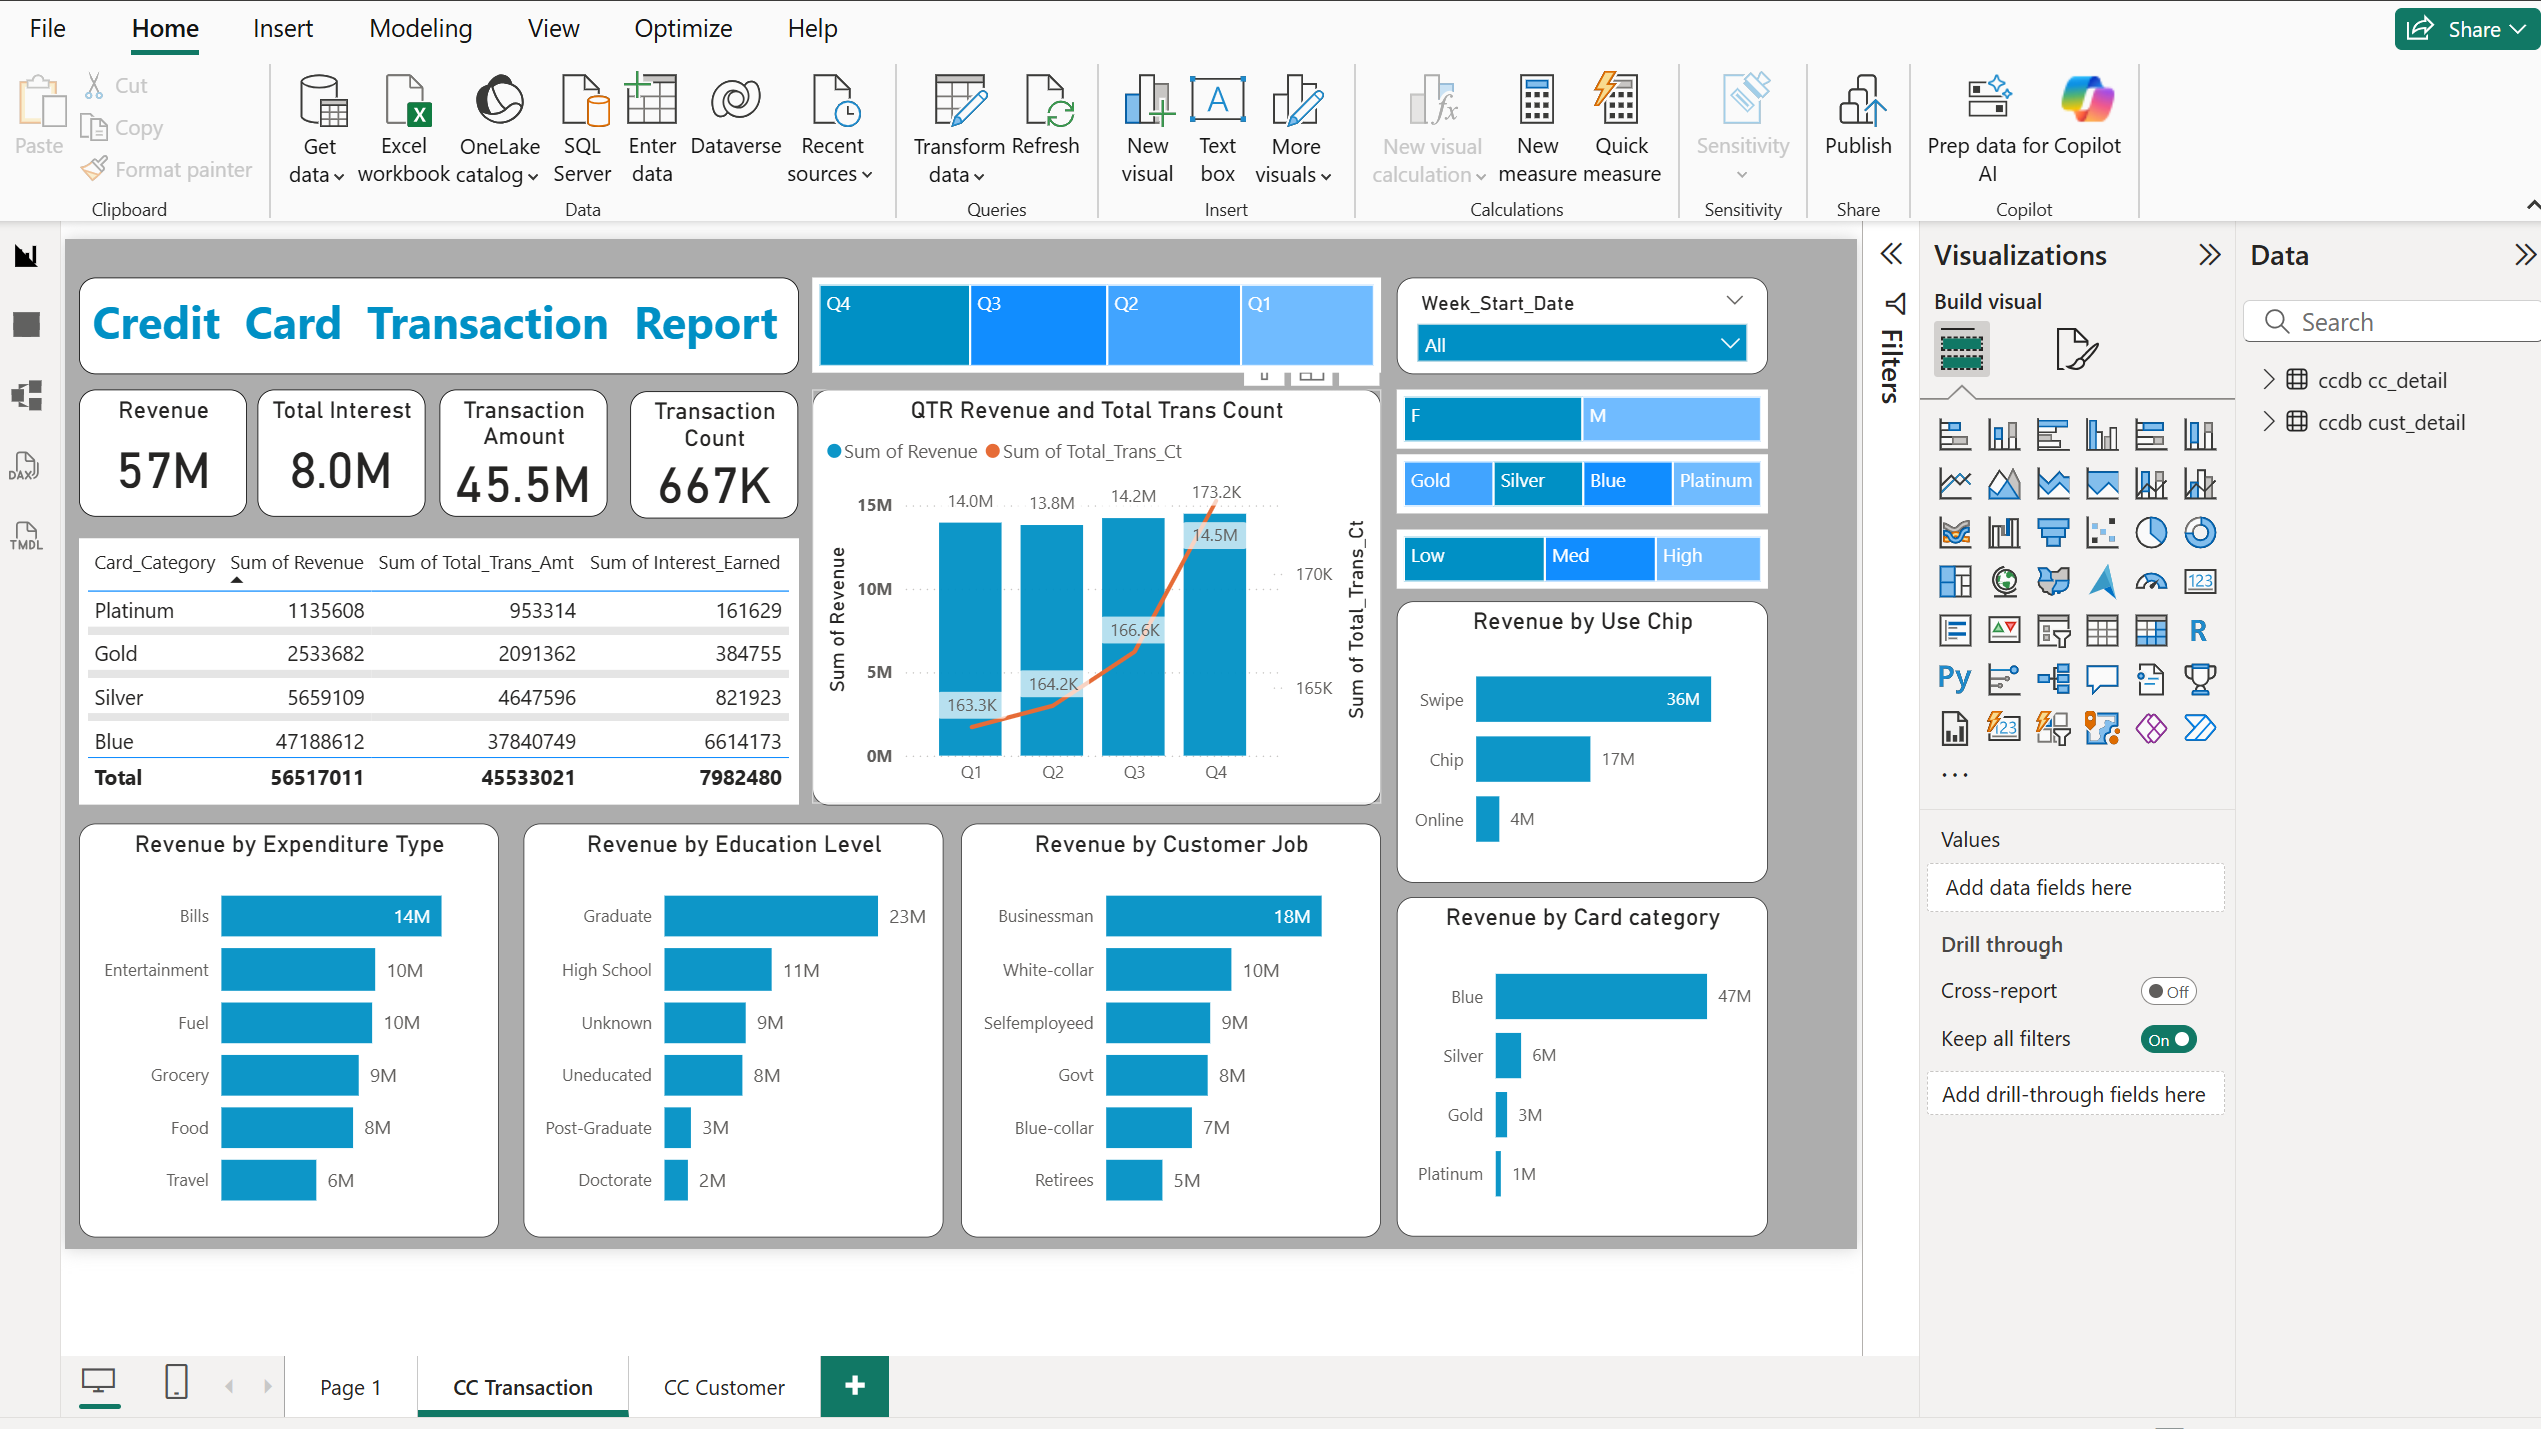

The dashboard page shown, as its layout file describes it:
{"tool":"powerbi","page":{"name":"CC Transaction","canvas":[1280,720],"ordinal":1},"visuals":[{"type":"textbox","box":[10,28,514,69],"z":0},{"type":"lineStackedColumnComboChart","title":"QTR Revenue and Total Trans Count","fields":{"Category":["ccdb cc_detail.Qtr"],"Y":["Sum(ccdb cc_detail.Revenue)"],"Y2":["Sum(ccdb cc_detail.Total_Trans_Ct)"]},"box":[534,107,406,297],"z":1000},{"type":"barChart","title":"Revenue by Expenditure Type","fields":{"Y":["Sum(ccdb cc_detail.Revenue)"],"Category":["ccdb cc_detail.Exp_Type"]},"box":[10,417,300,294],"z":2000},{"type":"barChart","title":"Revenue by Education Level","fields":{"Y":["Sum(ccdb cc_detail.Revenue)"],"Category":["ccdb cust_detail.Education_Level"]},"box":[327,417,300,294],"z":3000},{"type":"barChart","title":"Revenue by Customer Job","fields":{"Y":["Sum(ccdb cc_detail.Revenue)"],"Category":["ccdb cust_detail.Customer_Job"]},"box":[640,417,300,294],"z":4000},{"type":"barChart","title":"Revenue by Card category","fields":{"Y":["Sum(ccdb cc_detail.Revenue)"],"Category":["ccdb cc_detail.Card_Category"]},"box":[951,470,265,241],"z":5000},{"type":"barChart","title":"Revenue by Use Chip","fields":{"Y":["Sum(ccdb cc_detail.Revenue)"],"Category":["ccdb cc_detail.Use_Chip"]},"box":[951,259,265,201],"z":6000},{"type":"tableEx","fields":{"Values":["ccdb cc_detail.Card_Category","Sum(ccdb cc_detail.Revenue)","Sum(ccdb cc_detail.Total_Trans_Amt)","Sum(ccdb cc_detail.Interest_Earned)"]},"box":[10,214,514,190],"z":7000},{"type":"card","title":"Revenue","fields":{"Values":["Sum(ccdb cc_detail.Revenue)"]},"box":[10,108,120,91],"z":8000},{"type":"card","title":"Transaction Amount","fields":{"Values":["Sum(ccdb cc_detail.Total_Trans_Amt)"]},"box":[267,108,120,91],"z":9000},{"type":"card","title":"Total Interest","fields":{"Values":["Sum(ccdb cc_detail.Interest_Earned)"]},"box":[138,108,120,91],"z":10000},{"type":"card","title":"Transaction Count","fields":{"Values":["Sum(ccdb cc_detail.Total_Trans_Ct)"]},"box":[404,109,120,91],"z":11000},{"type":"slicer","fields":{"Values":["ccdb cc_detail.Week_Start_Date"]},"box":[951,28,265,69],"z":12000},{"type":"treemap","fields":{"Group":["ccdb cc_detail.Qtr"],"Values":["Avg(ccdb cc_detail.Client_Num)"]},"box":[534,28,406,68],"z":13000},{"type":"treemap","fields":{"Values":["Avg(ccdb cc_detail.Client_Num)"],"Group":["ccdb cust_detail.Gender"]},"box":[951,107,265,42],"z":14000},{"type":"treemap","fields":{"Values":["Avg(ccdb cc_detail.Client_Num)"],"Group":["ccdb cc_detail.Card_Category"]},"box":[951,154,265,42],"z":15000},{"type":"treemap","fields":{"Group":["ccdb cust_detail.IncomeGroup"],"Values":["CountNonNull(ccdb cc_detail.Revenue)"]},"box":[951,207,265,42],"z":16000}]}

Visuals, with their boxes on the page's 1280x720 design canvas (x1, y1, x2, y2). These are canvas units, not pixel positions in the 2541x1429 screenshot, which may show the page scaled, cropped or inside an application window:
textbox: (x1=10, y1=28, x2=524, y2=97)
"QTR Revenue and Total Trans Count" lineStackedColumnComboChart: (x1=534, y1=107, x2=940, y2=404)
"Revenue by Expenditure Type" barChart: (x1=10, y1=417, x2=310, y2=711)
"Revenue by Education Level" barChart: (x1=327, y1=417, x2=627, y2=711)
"Revenue by Customer Job" barChart: (x1=640, y1=417, x2=940, y2=711)
"Revenue by Card category" barChart: (x1=951, y1=470, x2=1216, y2=711)
"Revenue by Use Chip" barChart: (x1=951, y1=259, x2=1216, y2=460)
tableEx - ccdb cc_detail.Card_Category x Sum(ccdb cc_detail.Revenue): (x1=10, y1=214, x2=524, y2=404)
"Revenue" card: (x1=10, y1=108, x2=130, y2=199)
"Transaction Amount" card: (x1=267, y1=108, x2=387, y2=199)
"Total Interest" card: (x1=138, y1=108, x2=258, y2=199)
"Transaction Count" card: (x1=404, y1=109, x2=524, y2=200)
slicer - ccdb cc_detail.Week_Start_Date: (x1=951, y1=28, x2=1216, y2=97)
treemap - ccdb cc_detail.Qtr x Avg(ccdb cc_detail.Client_Num): (x1=534, y1=28, x2=940, y2=96)
treemap - Avg(ccdb cc_detail.Client_Num) x ccdb cust_detail.Gender: (x1=951, y1=107, x2=1216, y2=149)
treemap - Avg(ccdb cc_detail.Client_Num) x ccdb cc_detail.Card_Category: (x1=951, y1=154, x2=1216, y2=196)
treemap - ccdb cust_detail.IncomeGroup x CountNonNull(ccdb cc_detail.Revenue): (x1=951, y1=207, x2=1216, y2=249)
